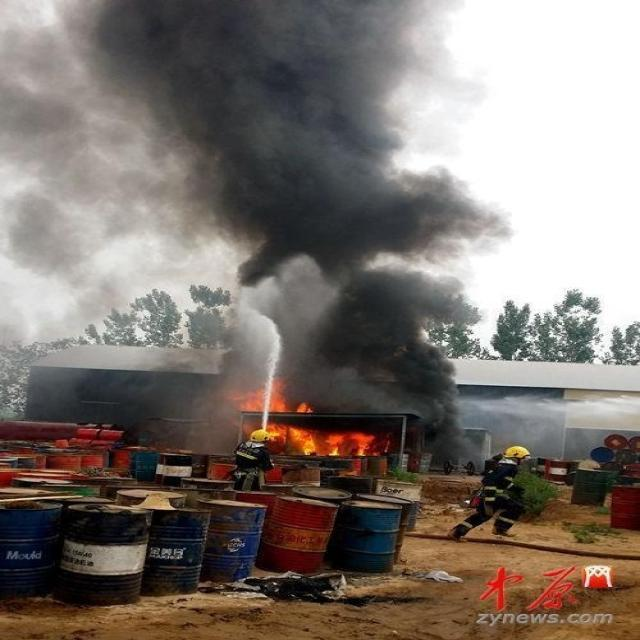Fire: (264, 422, 376, 456), (240, 377, 314, 413)
Smoke: (1, 1, 561, 470)
